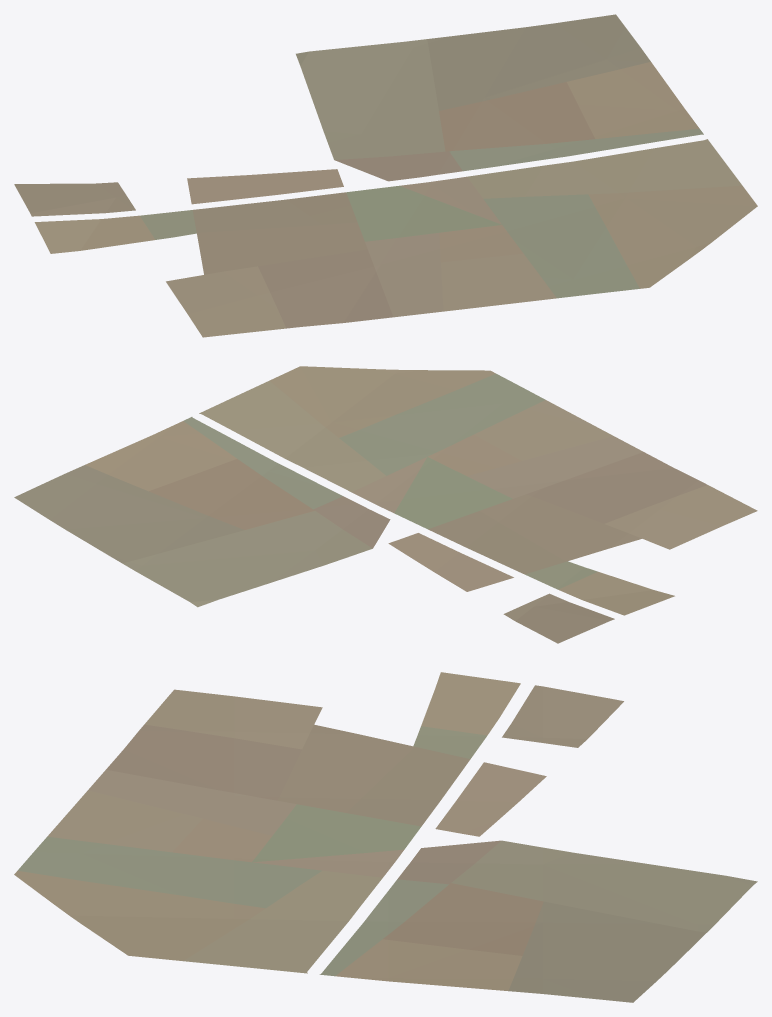
The model's file is farm_6_2_soil.glb.
3 views of the same model, one above another, from view 1: azimuth 30°, elevation 25°; view 2: azimuth 150°, elevation 25°; view 3: azimuth 270°, elevation 25° (orthographic). The views are drawn at different scales.
Visible parts, largest first — view 1: geometry_0; view 2: geometry_0; view 3: geometry_0.
Part boxes in pixels (left/top/right/bottom): geometry_0: left=14, top=14, right=757, bottom=337; geometry_0: left=14, top=366, right=757, bottom=643; geometry_0: left=14, top=672, right=757, bottom=1002.
Size of the model in its own units: 427 by 13.87 by 386.
